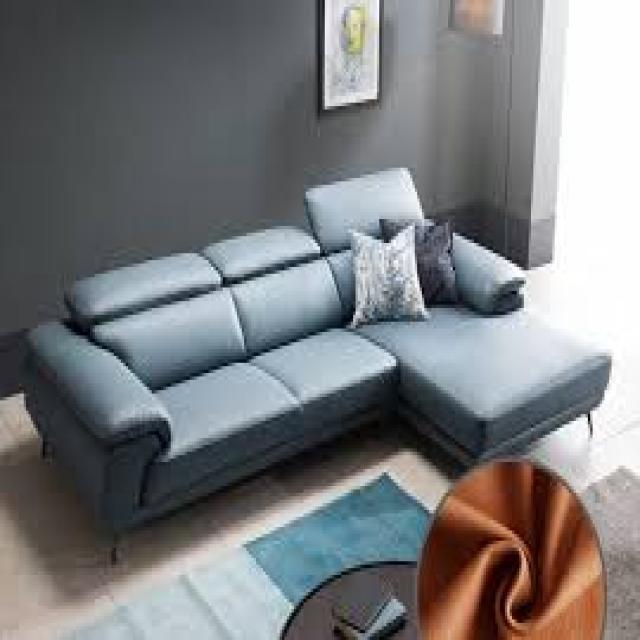Sofa: (24, 141, 625, 624)
